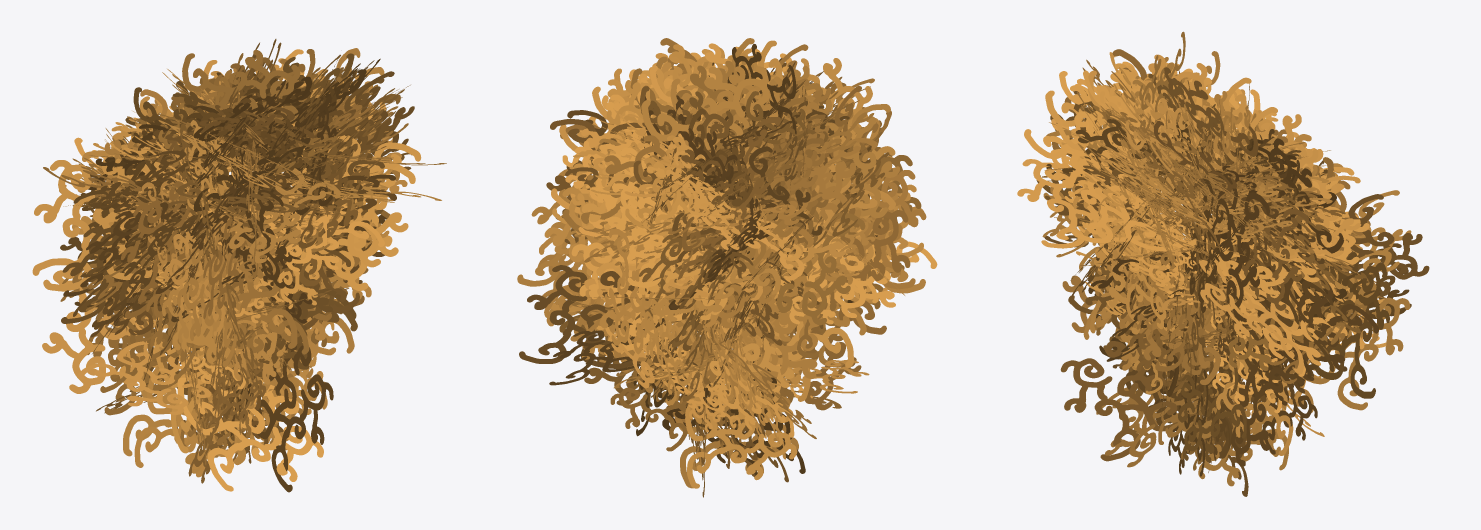
Rendered from Tree_Leaves_Curly_01.fbx.
3 views of the same model, side by side, from view 1: azimuth 30°, elevation 25°; view 2: azimuth 150°, elevation 25°; view 3: azimuth 270°, elevation 25° (orthographic). The views are drawn at different scales.
Visible parts, largest first — view 1: Leaves_Curly_01; view 2: Leaves_Curly_01; view 3: Leaves_Curly_01.
Part boxes in pixels (x1,y1,x2,y2): Leaves_Curly_01: (32, 39, 446, 492); Leaves_Curly_01: (517, 38, 937, 497); Leaves_Curly_01: (1017, 31, 1429, 496).
Size of the model in its own units: 544 by 599 by 564.
1 material, 1 textured.
